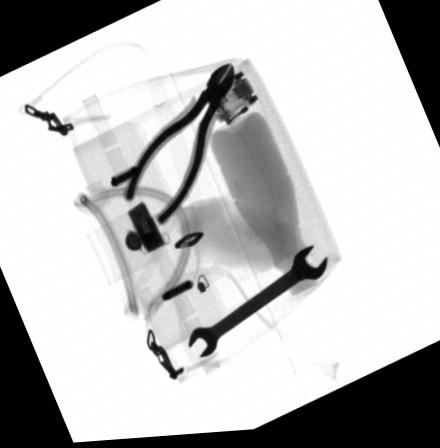Pliers: (124, 65, 234, 227)
Wrench: (186, 249, 328, 360)
